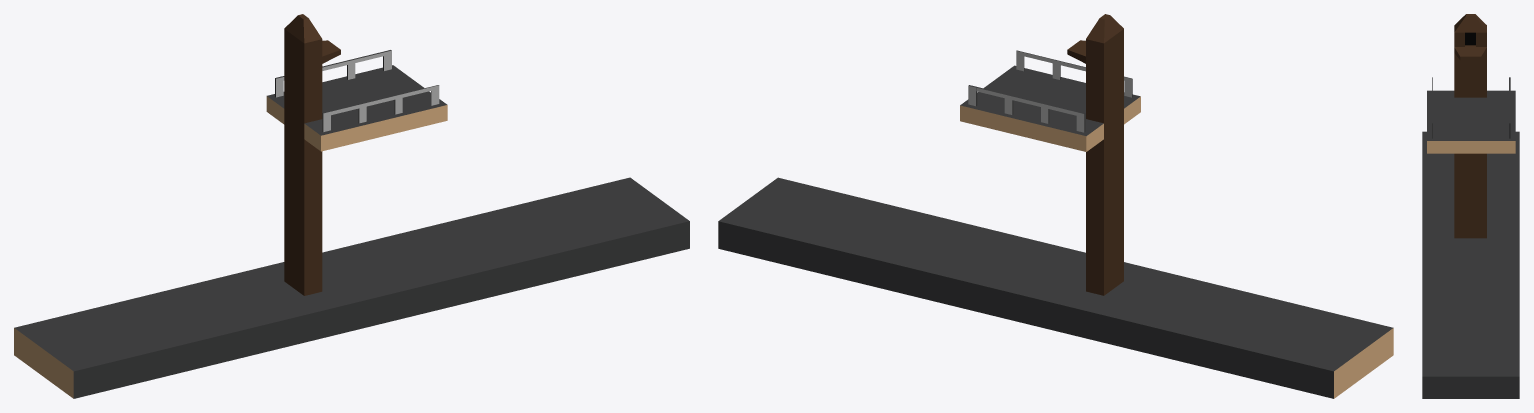
File: Plataform.fbx
3 views of the same model, side by side, from view 1: azimuth 30°, elevation 25°; view 2: azimuth 150°, elevation 25°; view 3: azimuth 270°, elevation 25° (orthographic). The views are drawn at different scales.
Visible parts, largest first — view 1: Platform; view 2: Platform; view 3: Platform.
Boxes of the visible parts, x1,y1,x2,y2 form: Platform: (14,14,689,398); Platform: (718,14,1393,398); Platform: (1422,14,1519,398).
Bounding box in the file's own units: 3531 × 1628 × 592.
